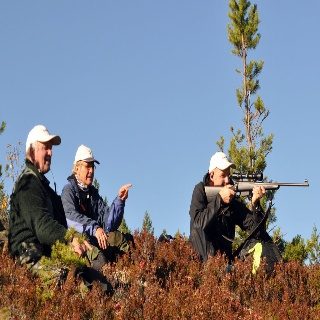rifle: (202, 170, 311, 214)
